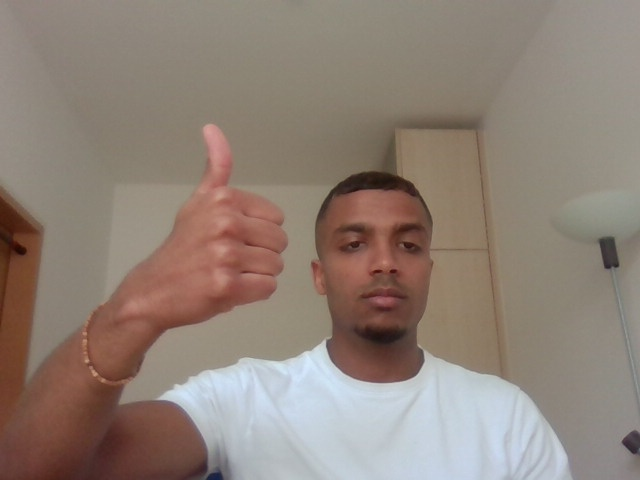yes: (117, 105, 305, 334)
